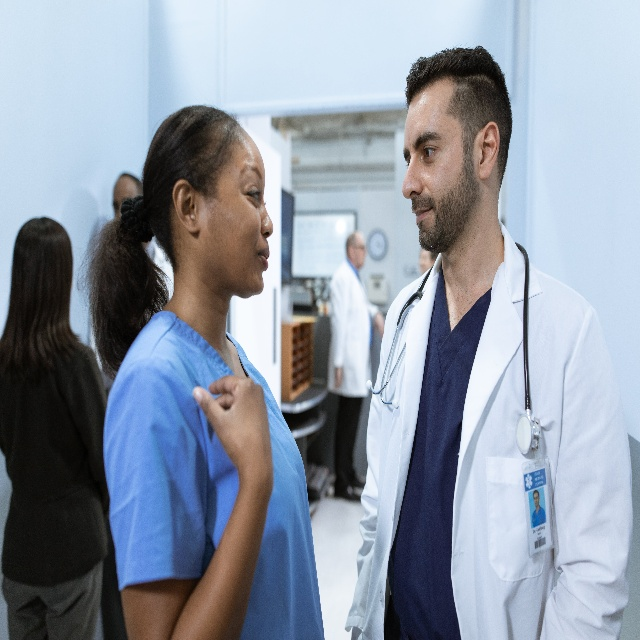Sin_guantes: (192, 372, 275, 496), (374, 311, 385, 339), (335, 367, 343, 388)
